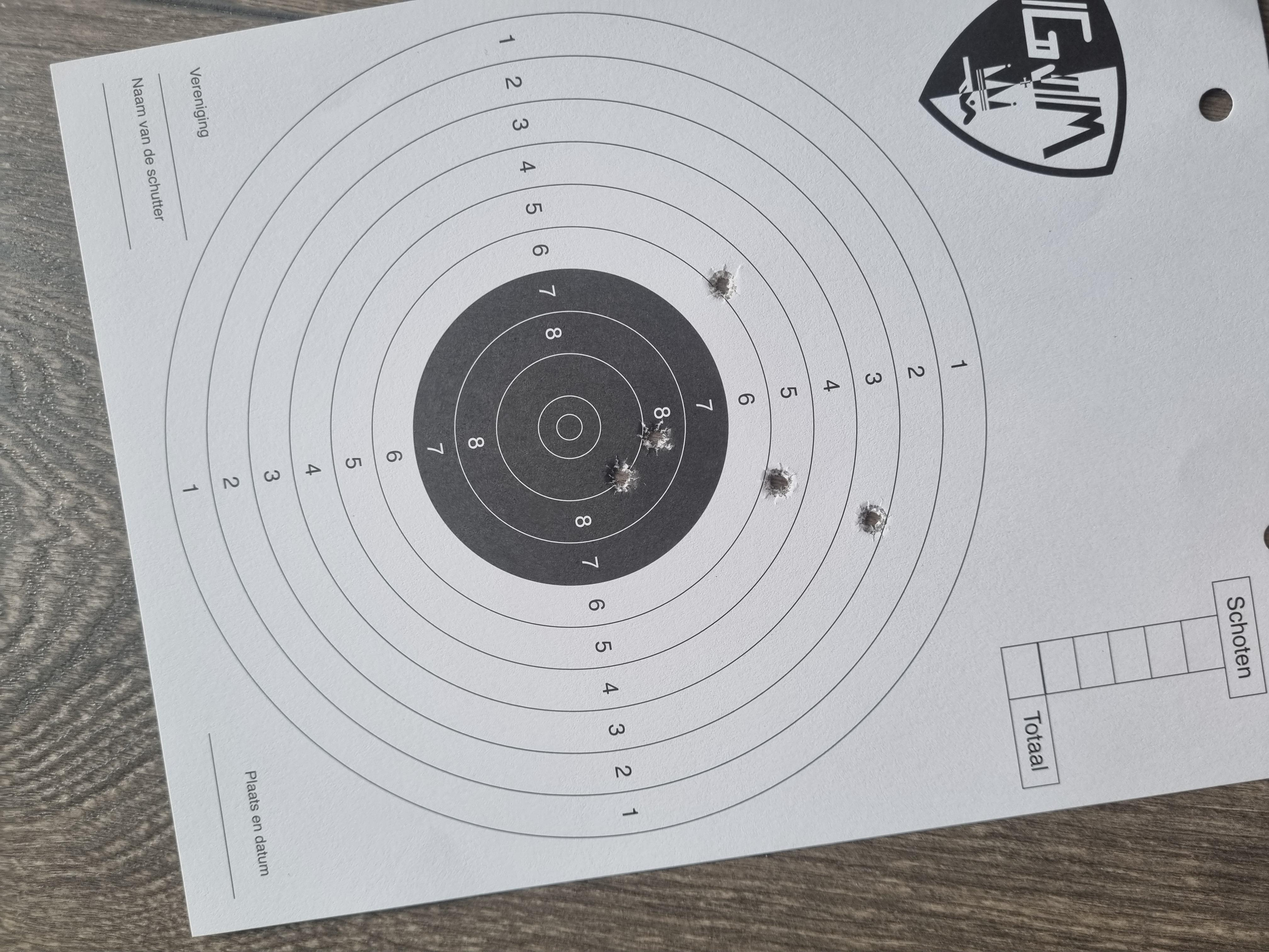hole: (603, 451, 655, 481), (662, 479, 709, 509), (863, 527, 915, 553), (606, 570, 648, 597), (557, 642, 597, 667)
